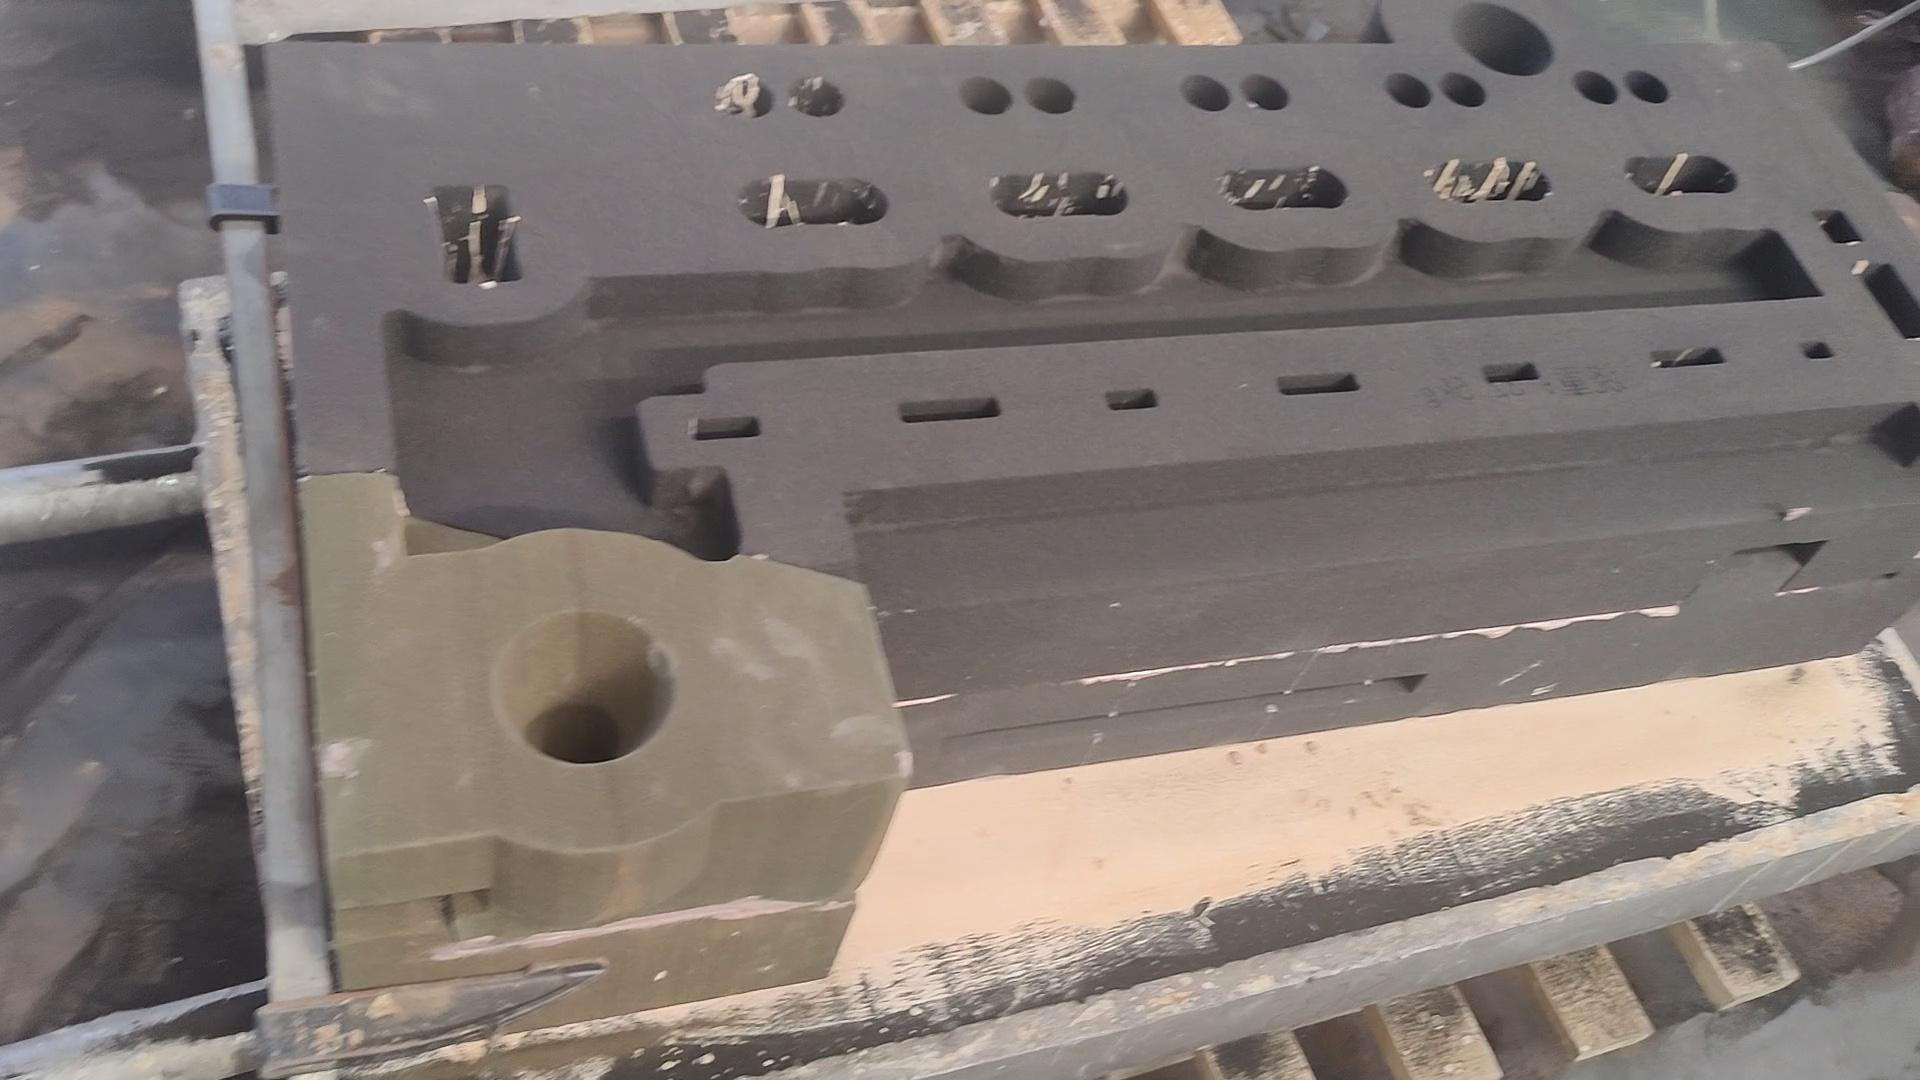pouring hole: (488, 609, 676, 762), (1449, 3, 1555, 78)
